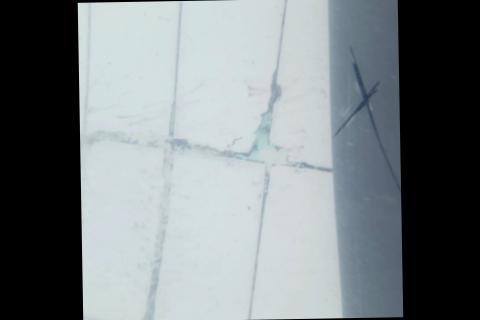keretakan: (332, 44, 401, 213)
